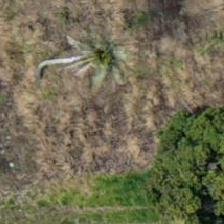Kelapa_Sawit: (52, 7, 142, 97)
